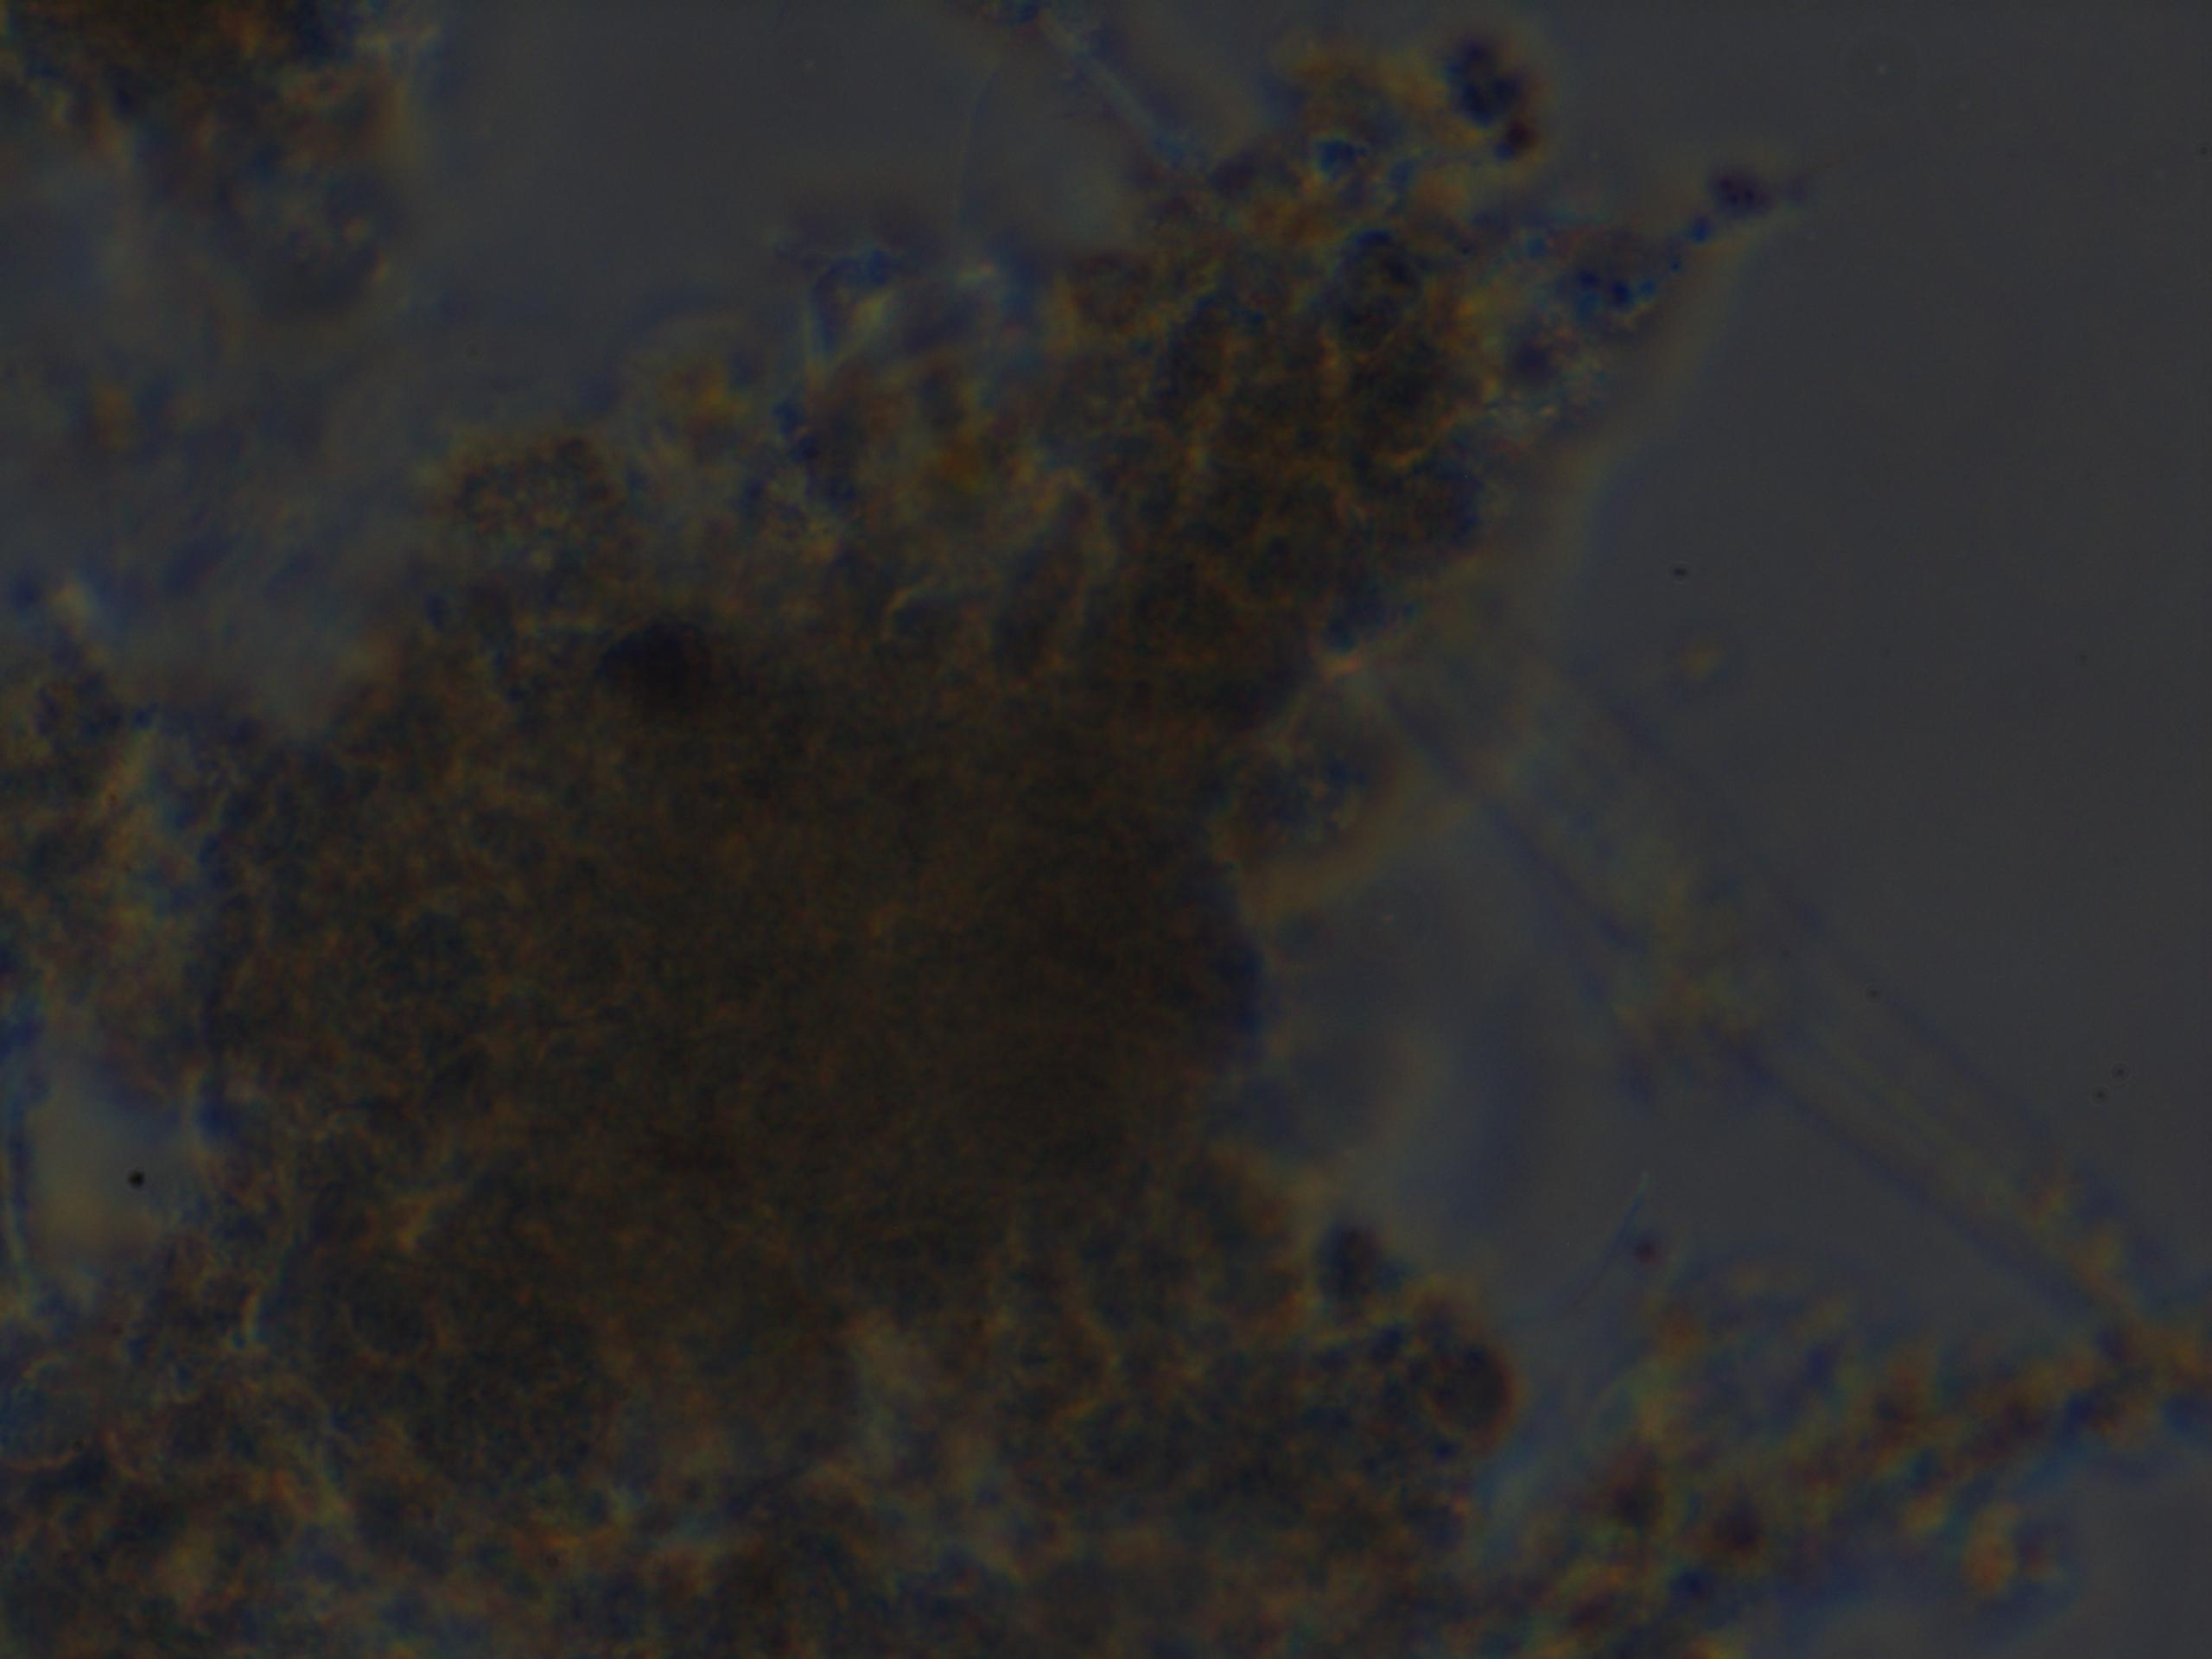filament: (1331, 580, 2212, 1352), (979, 7, 1254, 216)
